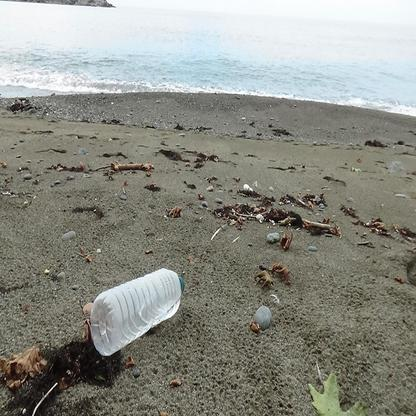plastic bottle: (90, 266, 185, 355)
